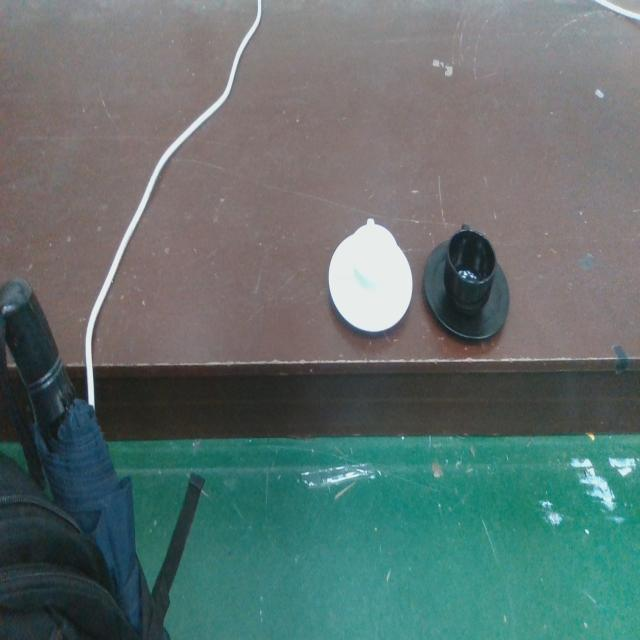black: (421, 218, 512, 345)
white: (326, 216, 415, 338)
